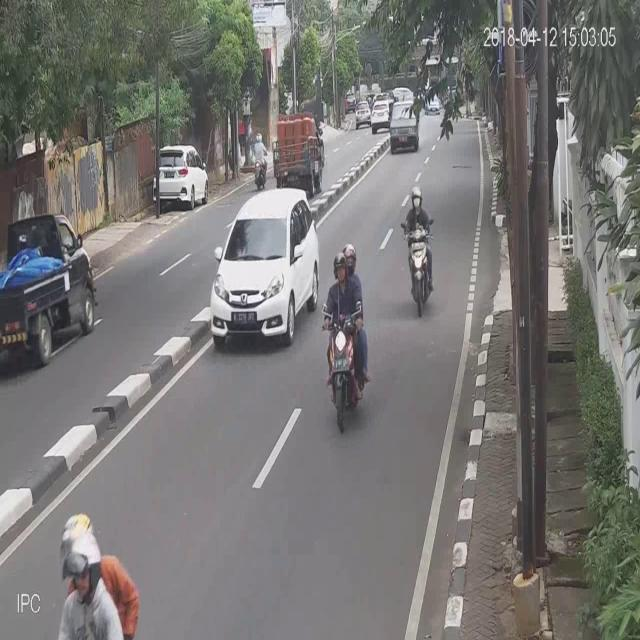bus: (321, 242, 373, 430), (397, 182, 436, 324), (250, 128, 267, 190)
motorcycle: (207, 180, 320, 354), (151, 138, 211, 212), (389, 100, 418, 153), (371, 98, 389, 132), (354, 99, 370, 129)
truck: (272, 114, 322, 186)
